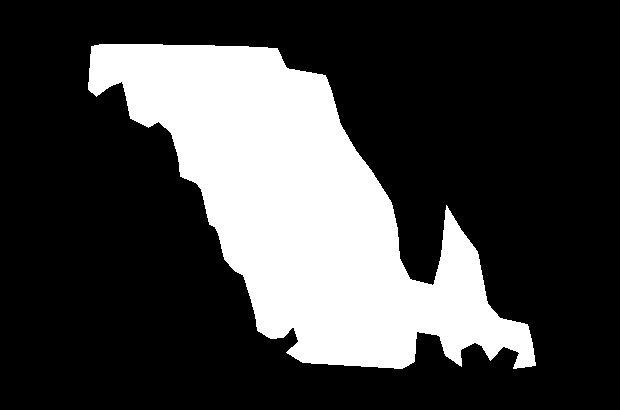type2: (83, 39, 539, 372)
